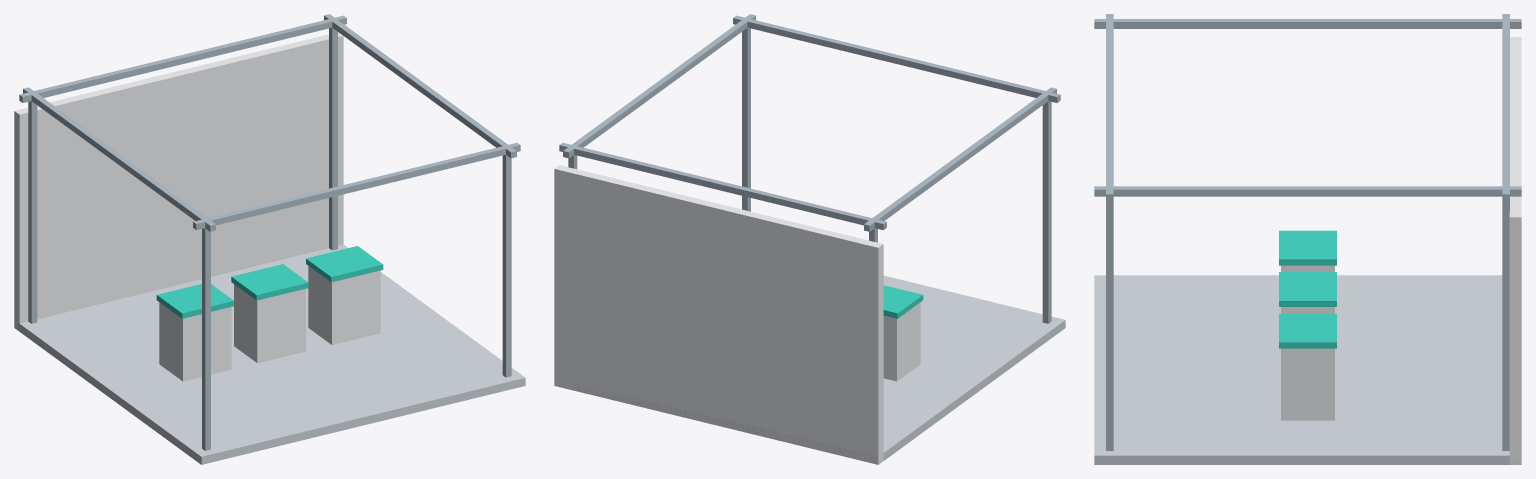
3 renders of one model, left to right at view 1: azimuth 30°, elevation 25°; view 2: azimuth 150°, elevation 25°; view 3: azimuth 270°, elevation 25°, orthographic. The views are drawn at different scales.
Parts seen in each view (by area): view 1: Exhibition Booth Concept; view 2: Exhibition Booth Concept; view 3: Exhibition Booth Concept.
Boxes of the visible parts, bbox=[...] form: Exhibition Booth Concept: bbox=[14, 14, 525, 464]; Exhibition Booth Concept: bbox=[554, 14, 1065, 464]; Exhibition Booth Concept: bbox=[1094, 14, 1521, 464].
Size of the model in its own units: 5 by 3.49 by 5.
